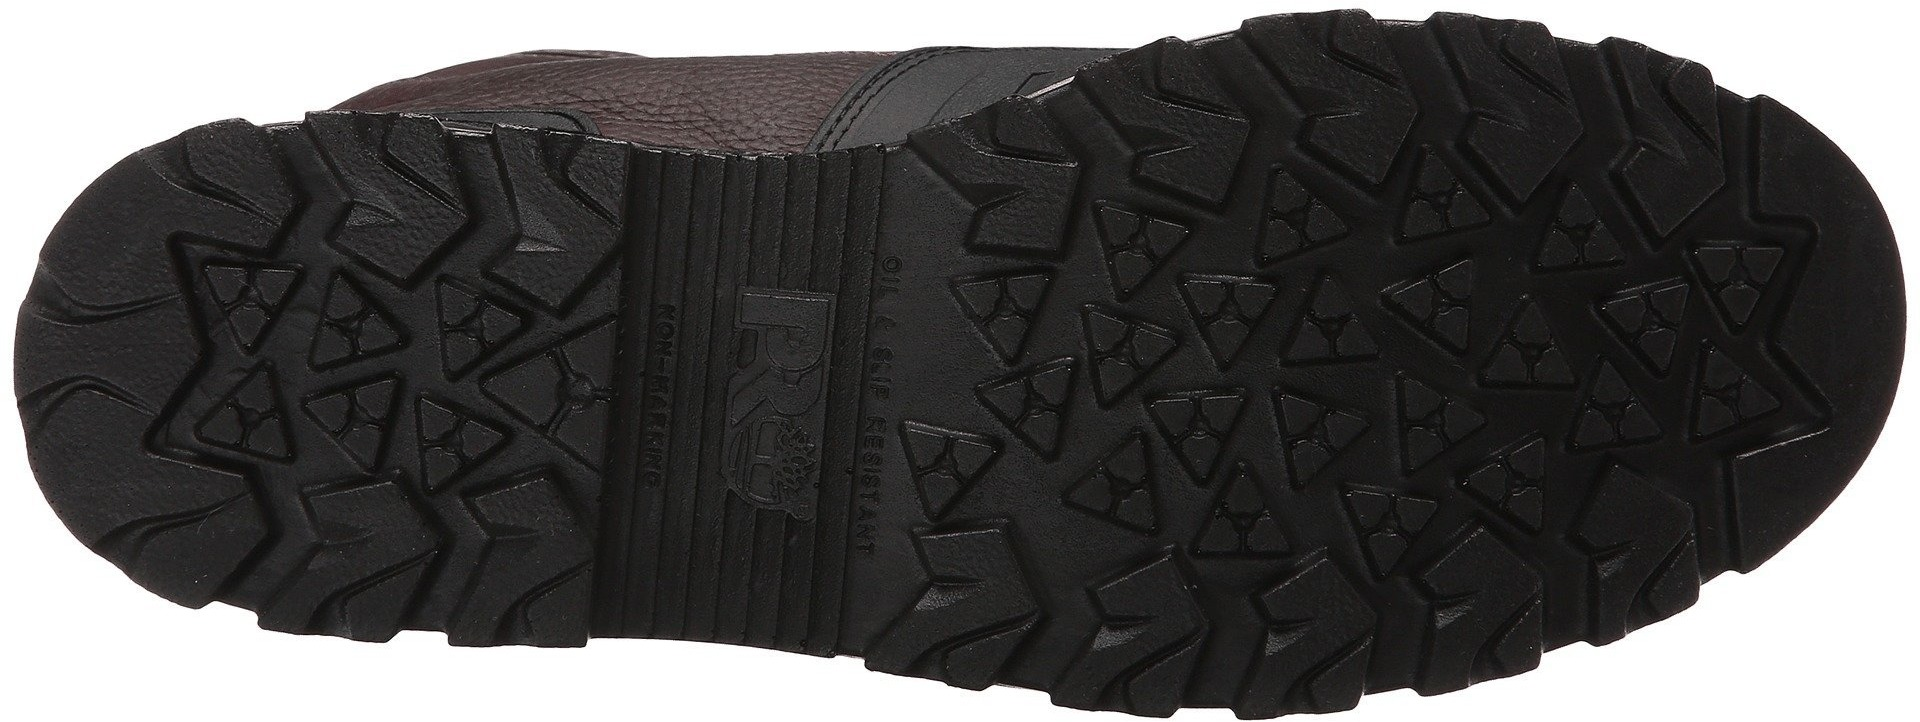chevron: (260, 450, 475, 628), (290, 114, 482, 302), (1240, 26, 1429, 197), (1223, 509, 1389, 694)
exclude: (588, 144, 732, 650)
text: (708, 277, 868, 441), (866, 263, 947, 344)
triangle: (1089, 221, 1412, 538), (1467, 220, 1742, 474), (394, 274, 618, 492), (219, 253, 410, 452)
